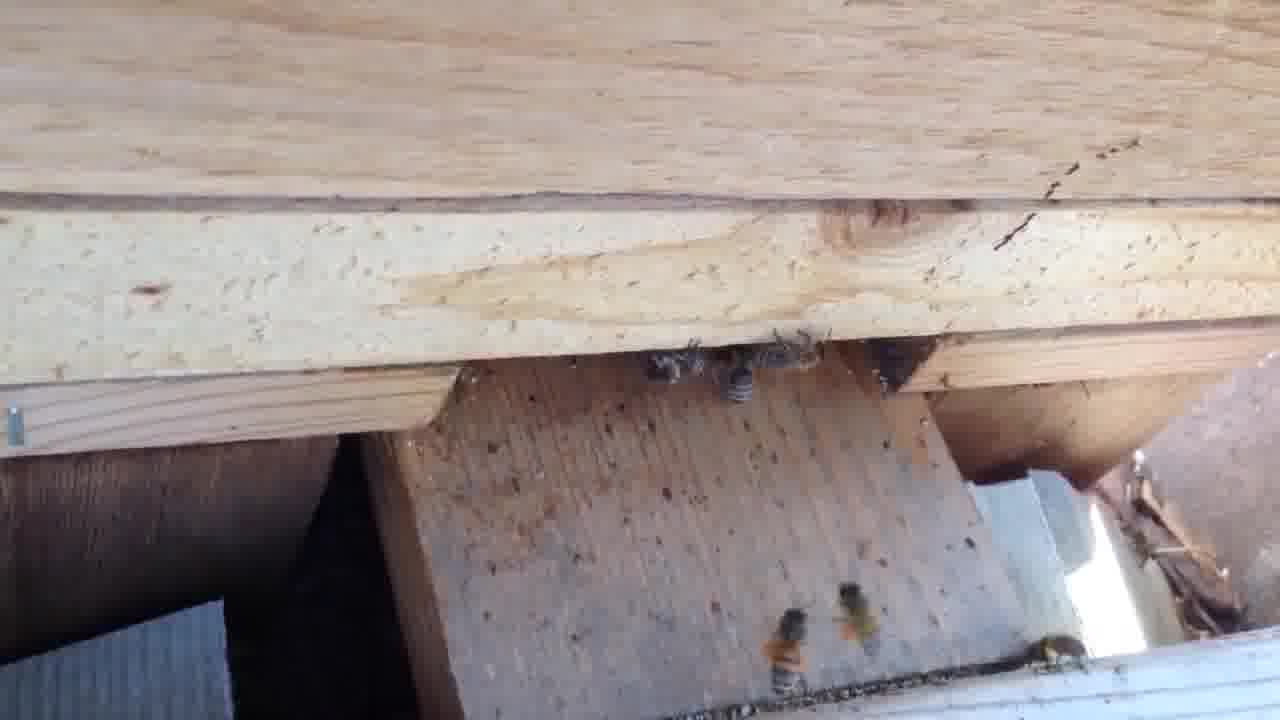pollen: (761, 602, 817, 699), (827, 579, 890, 659)
